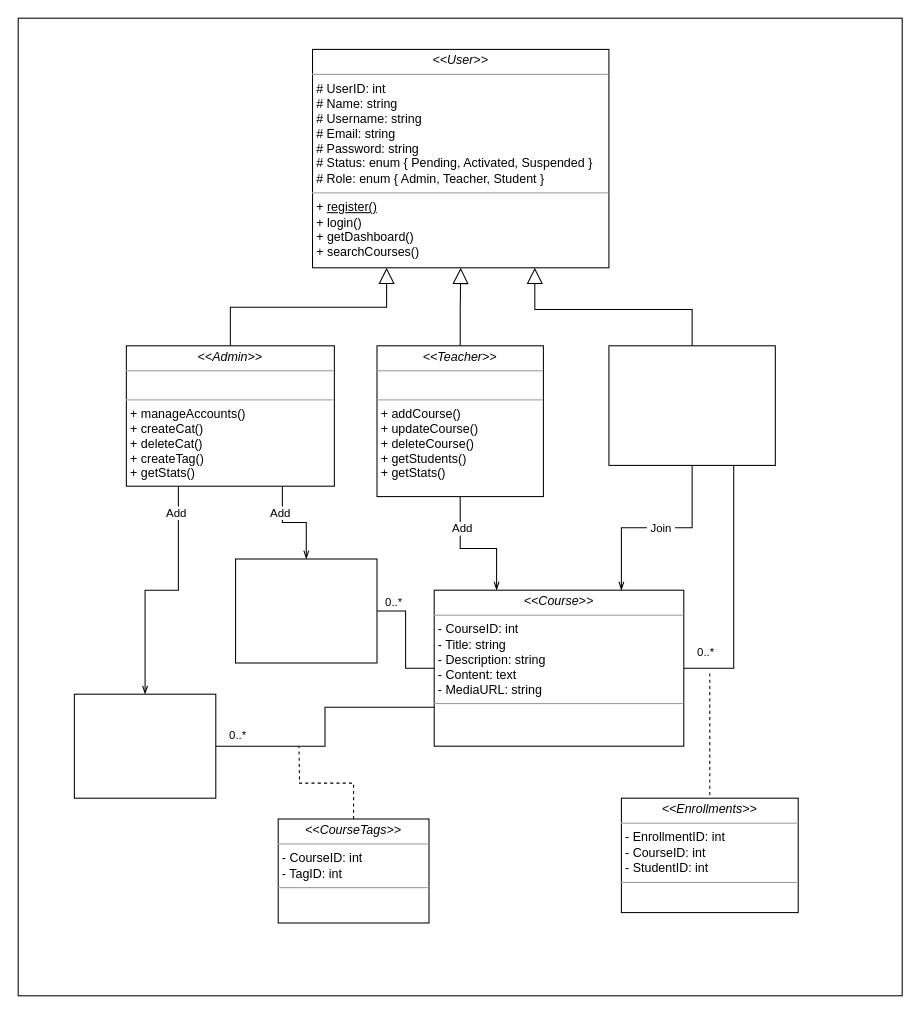
Image size: 920x1014. Some labels were removed from this diagram. The centre of each missing label's shape, as x and y in pixels:
"<< Category >> - CategoryID: int - CatName: string" goes at point (306, 610).
"<<Student>> + getCourseDetails() + joinCourse() + getMyCourses()" goes at point (691, 405).
"<<Tags >> - TagID: int - TagName: string" goes at point (144, 745).
